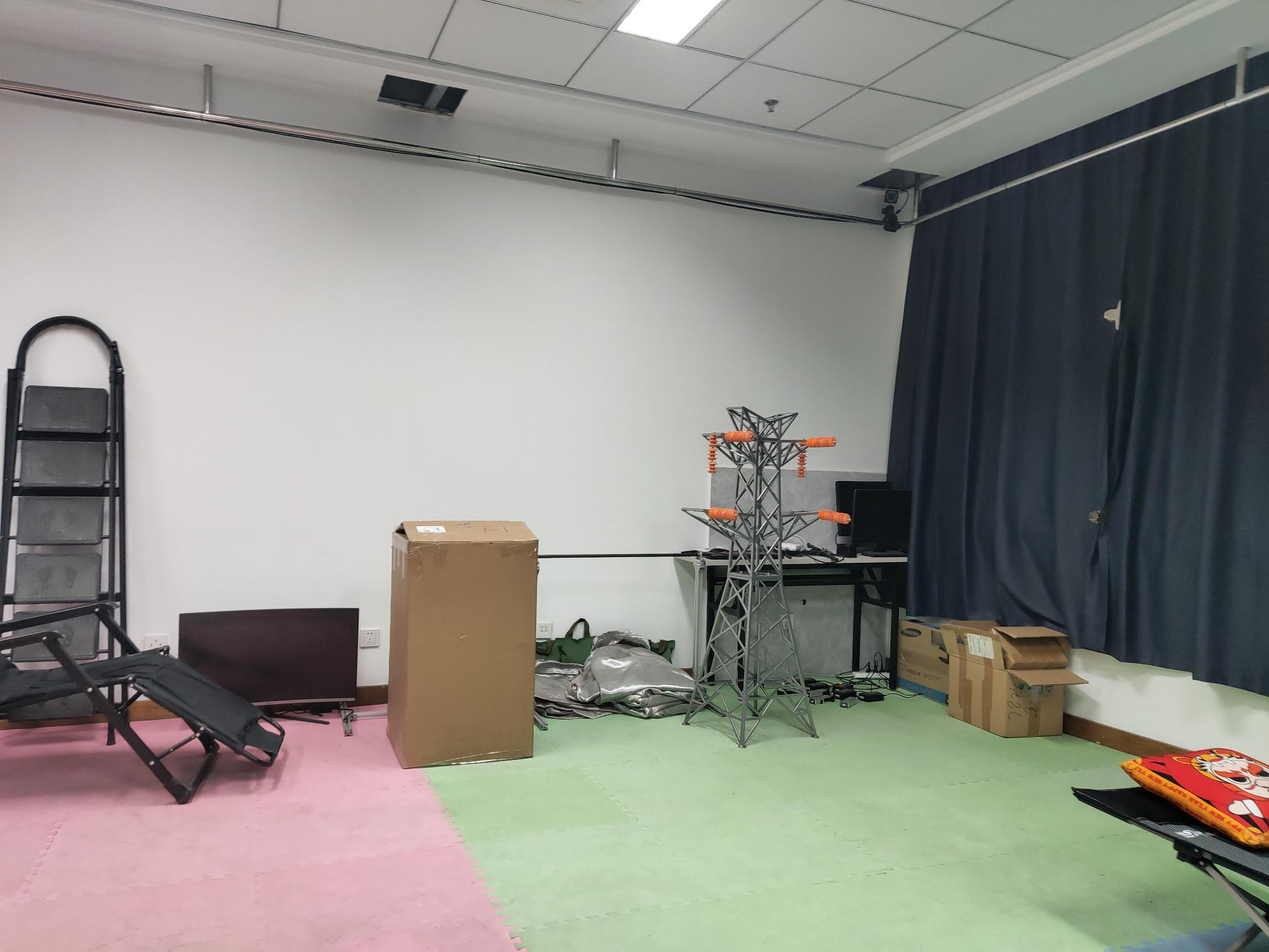tower: (680, 405, 819, 747)
